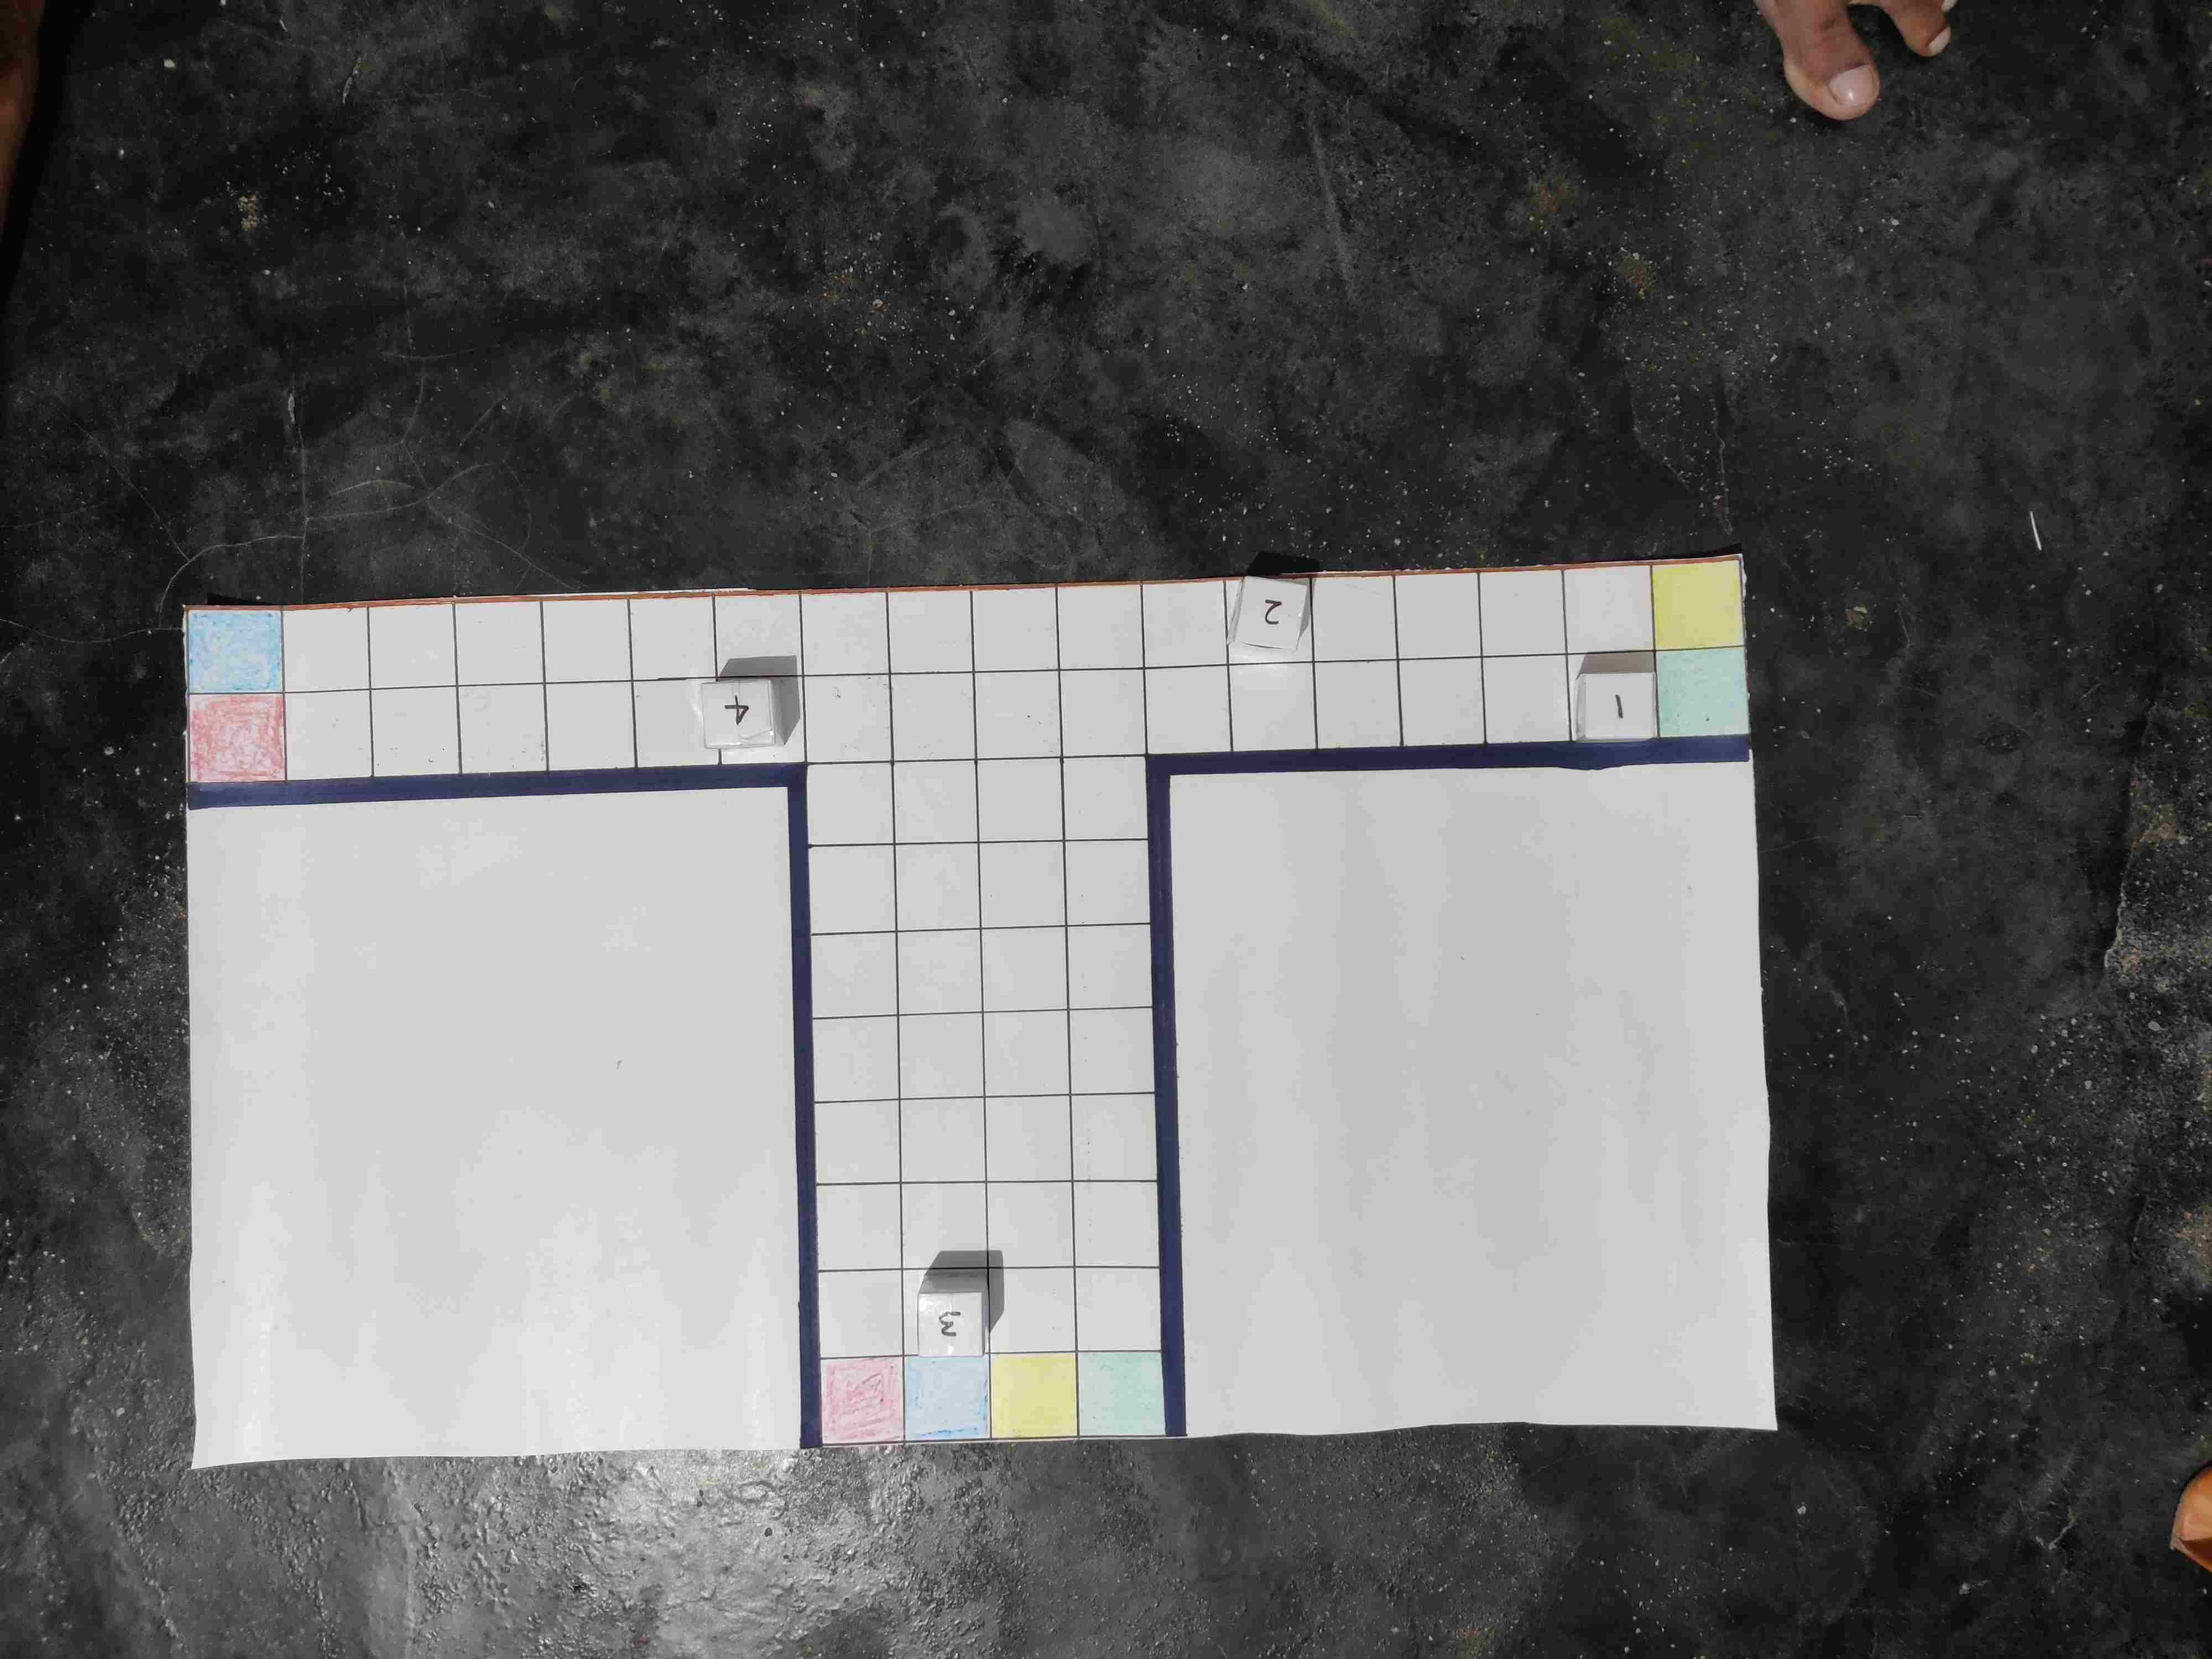arena: (185, 558, 1747, 1453)
bot: (1237, 573, 1310, 648), (1583, 671, 1660, 741), (698, 685, 777, 751), (914, 1290, 984, 1361)
